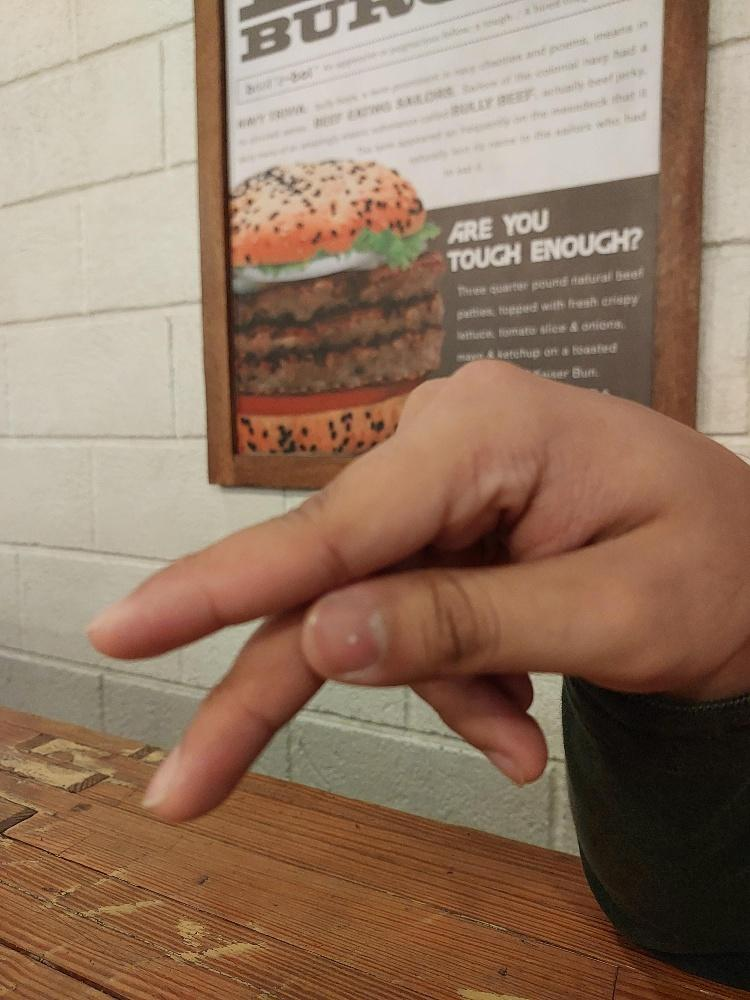p: (83, 353, 749, 825)
